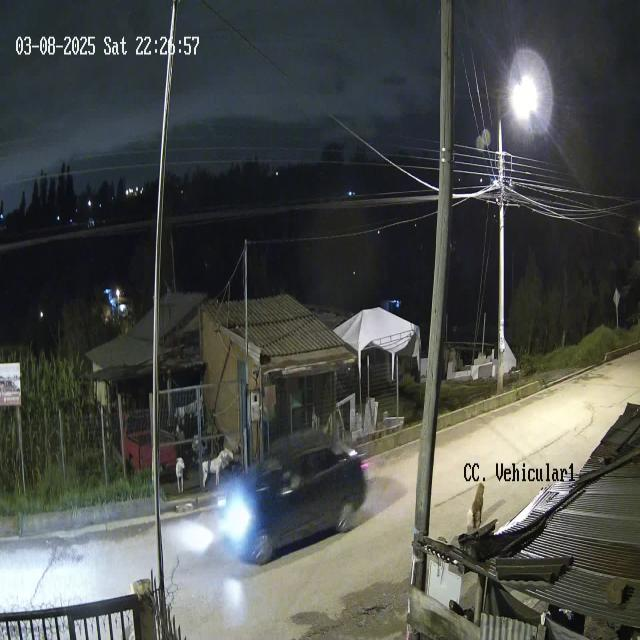SED: (220, 428, 369, 564)
